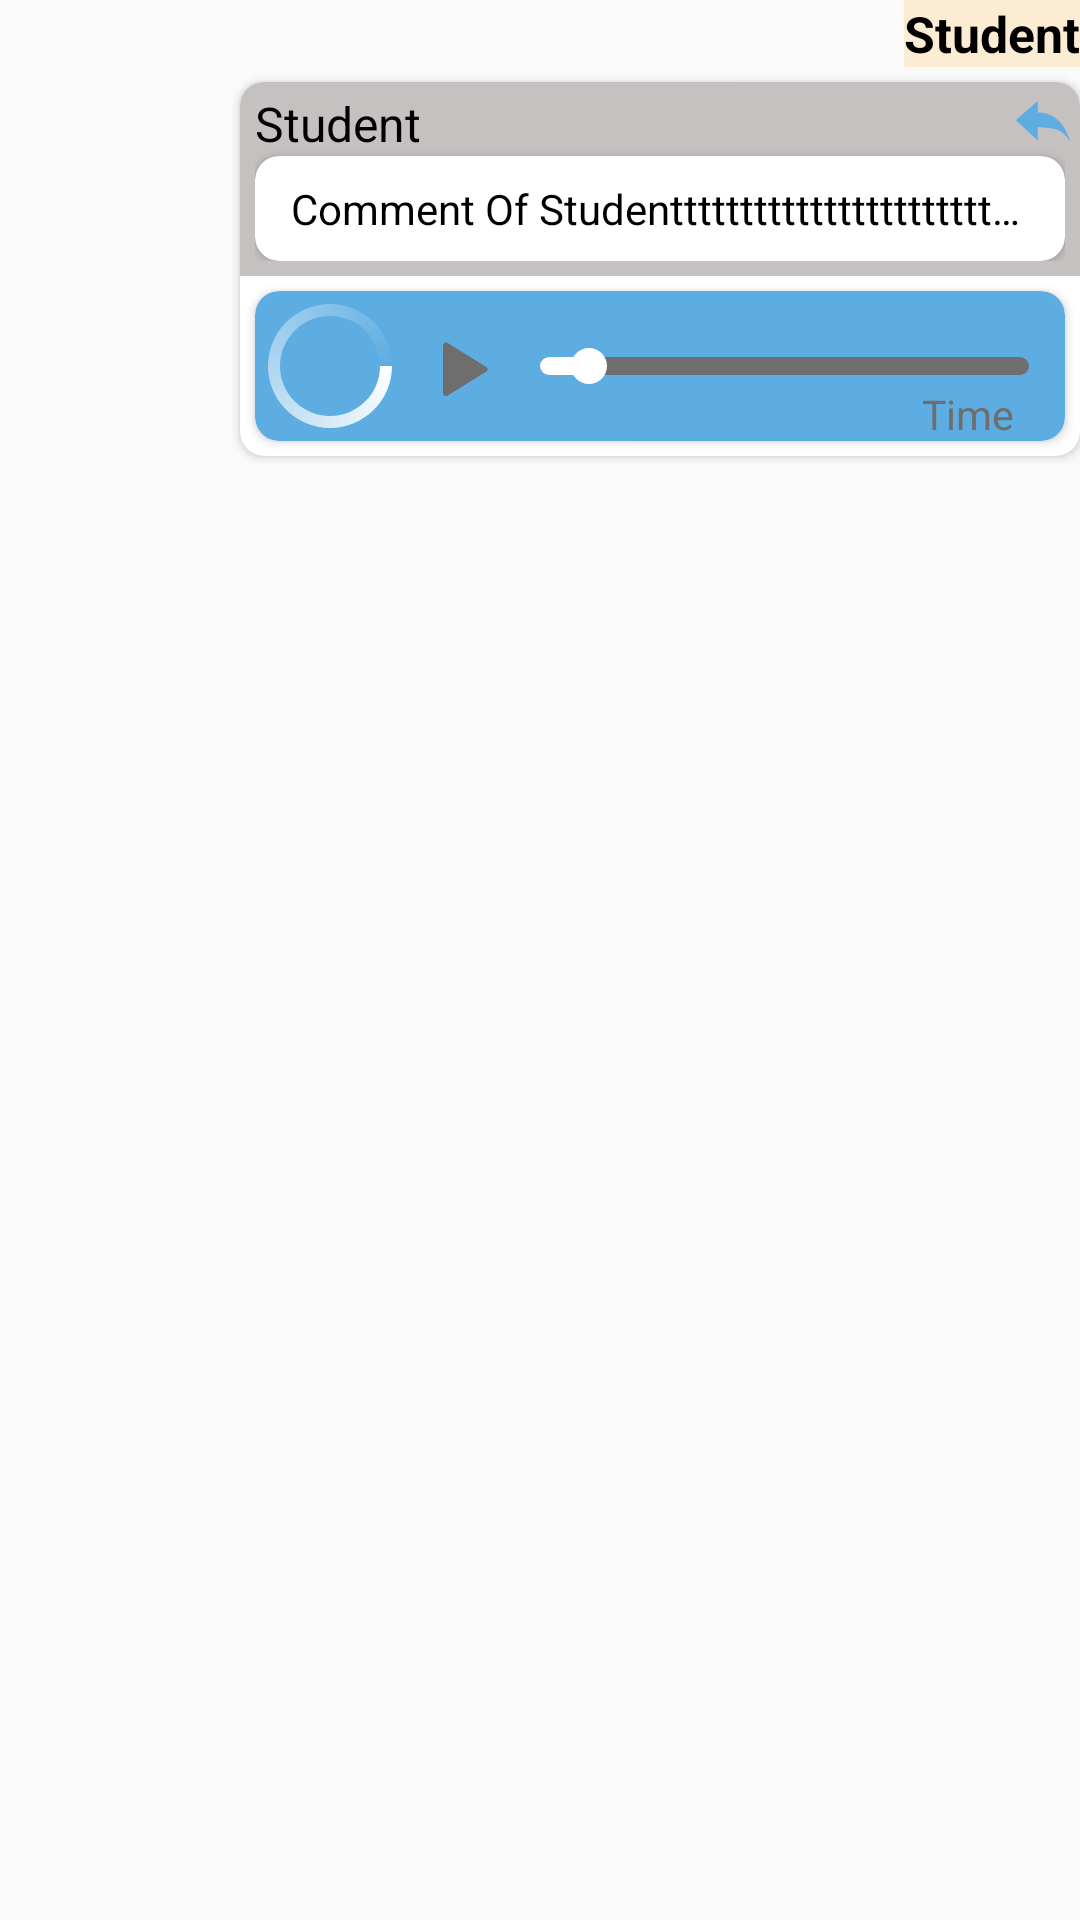

Icons on this 1080px×1920px Android screen, each with the point to tap as (x,y):
play: (465,369)
reply: (1042,119)
